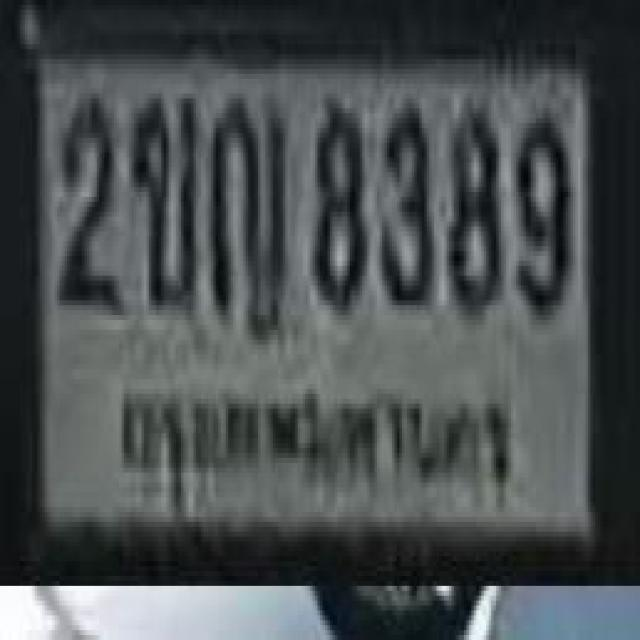license_plate: (18, 17, 611, 568)
